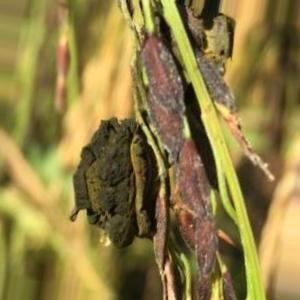Leaf_Scald: (77, 118, 153, 246)
